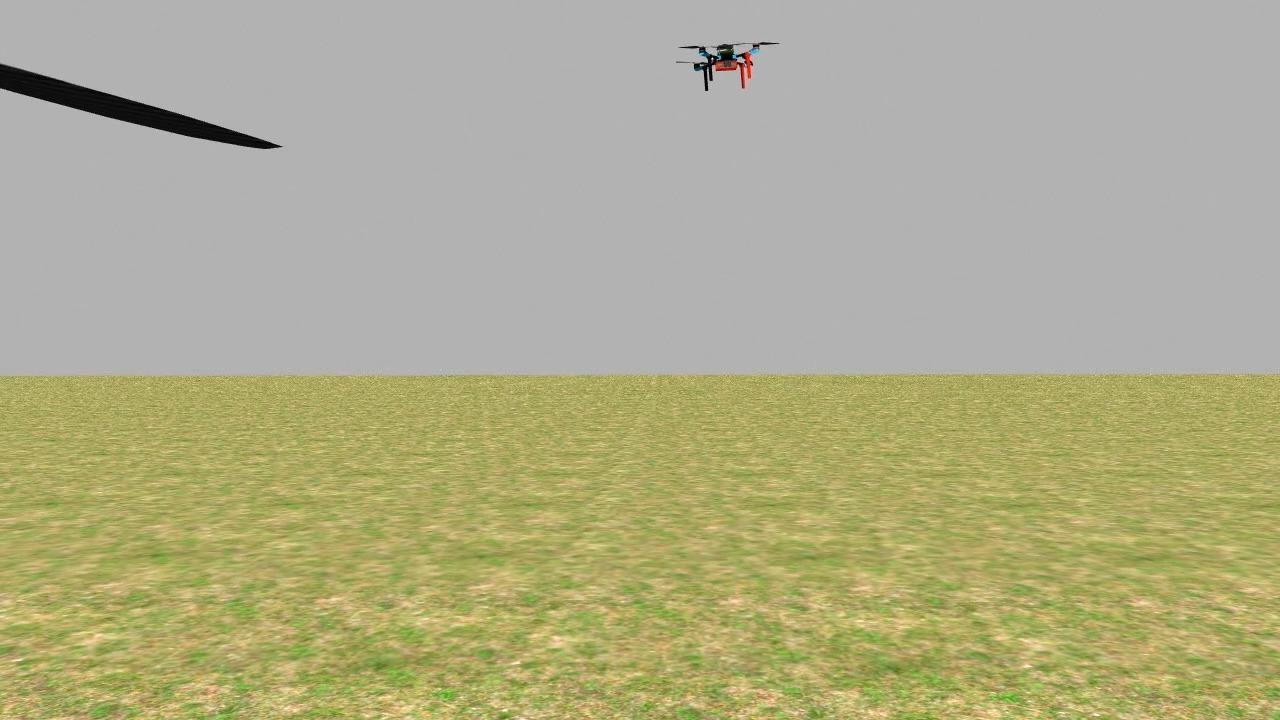UAV: (670, 33, 777, 102)
